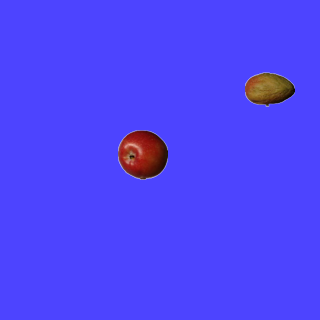Apple Braeburn: (117, 129, 167, 179)
Papaya: (244, 64, 294, 114)
